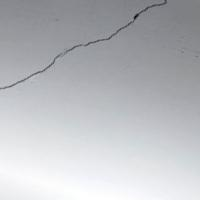crack: (2, 3, 169, 104)
